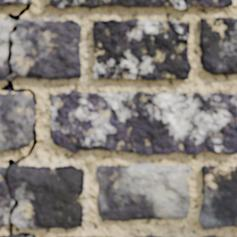brick: (50, 90, 236, 154), (93, 20, 191, 79), (97, 163, 189, 219), (200, 166, 236, 228), (200, 18, 236, 74), (0, 93, 34, 150), (46, 0, 232, 8), (0, 0, 29, 5), (0, 235, 34, 236)
broken_brick: (9, 164, 84, 229), (11, 18, 82, 79), (0, 166, 11, 227), (0, 18, 10, 80)
crack: (0, 2, 37, 234), (216, 144, 236, 150), (19, 232, 30, 235)
